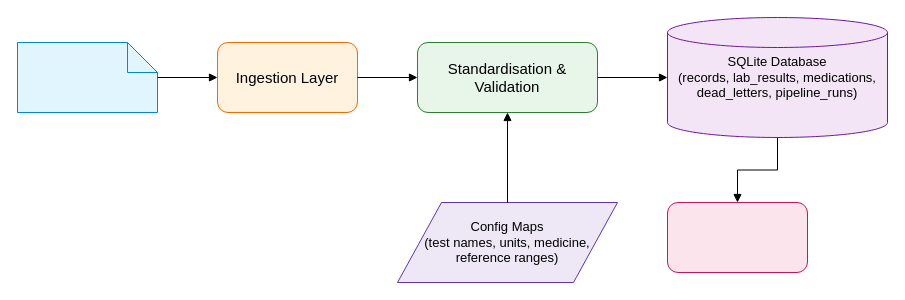
Image size: 905x300. Some labels were removed from this diagram. The centre of each missing label's shape, as x and y in pixels:
Input JSON files (sample-data): the point at 87,77
Streamlit UI: the point at 737,237
